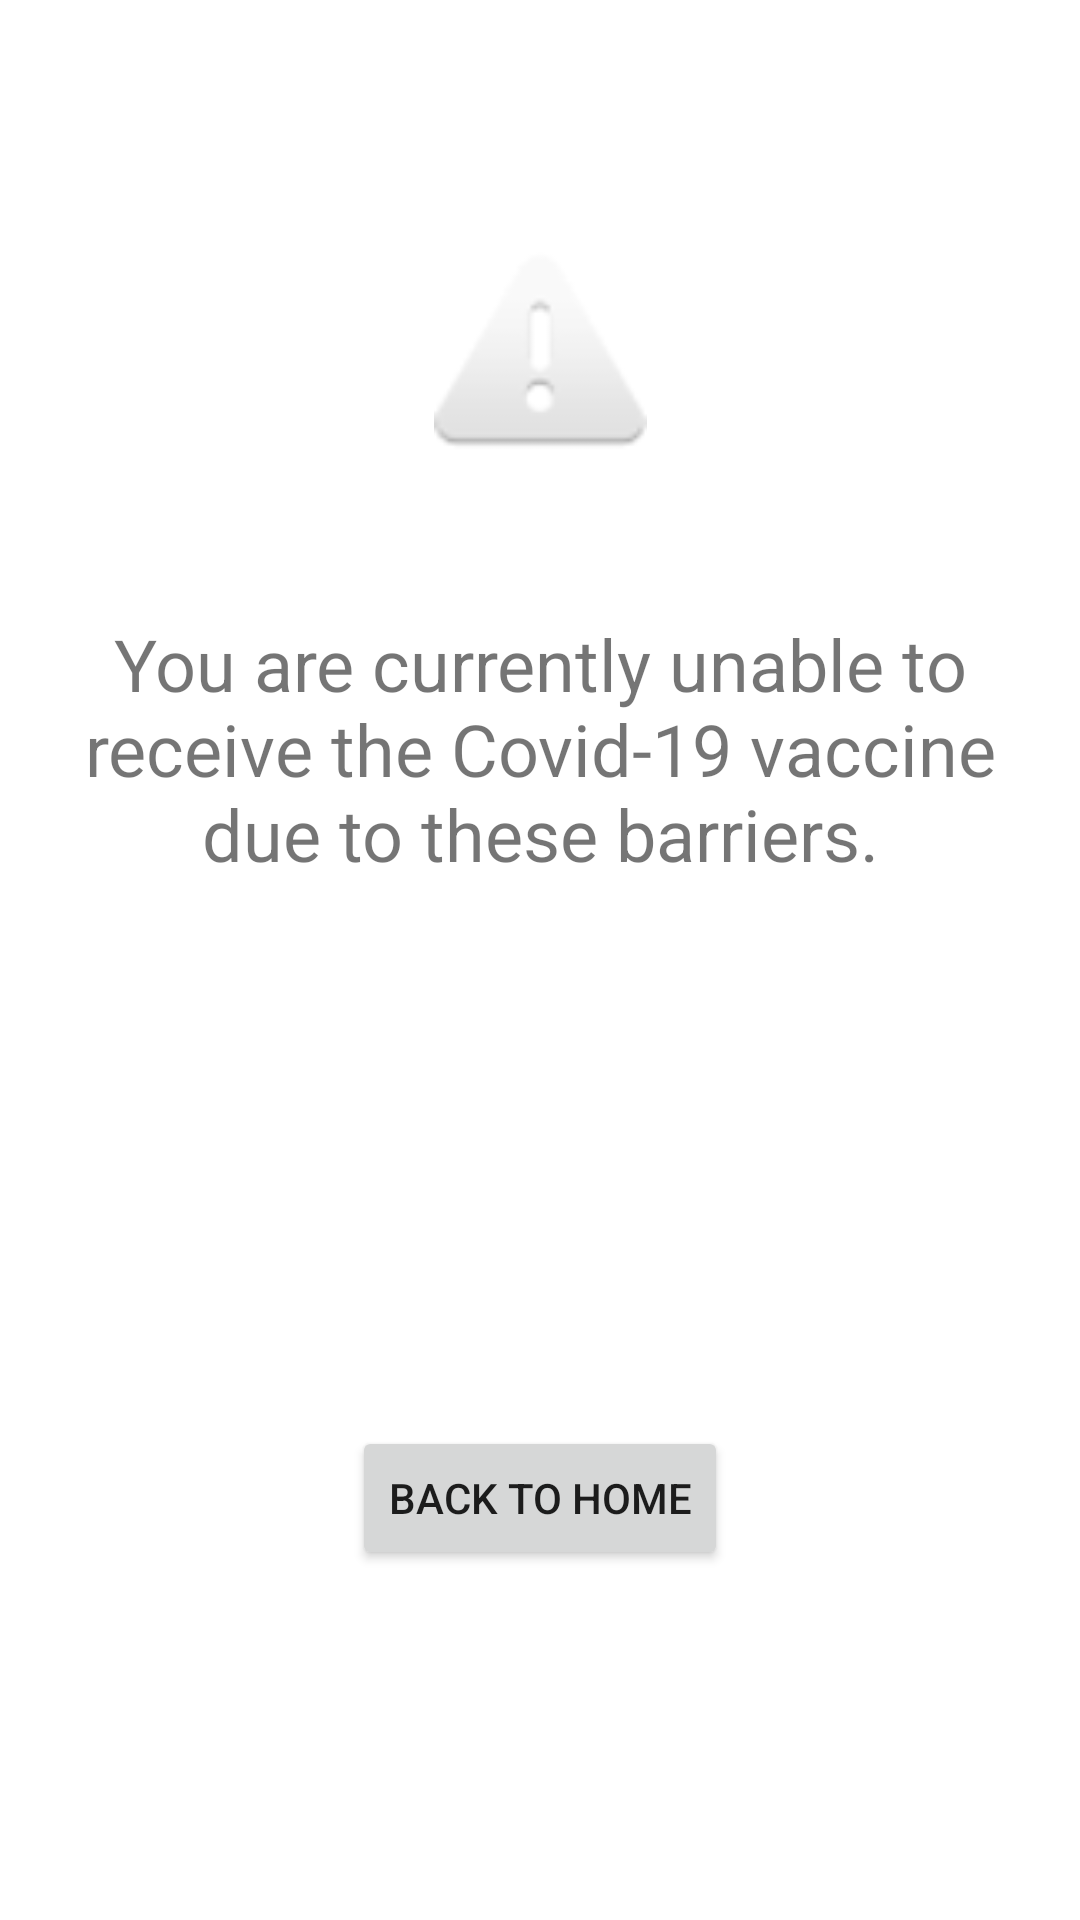

Named icons in this screenshot (1080x1920) and their bounding boxes, (x1, y1, x2, y2):
alert: (434, 301, 647, 445)
